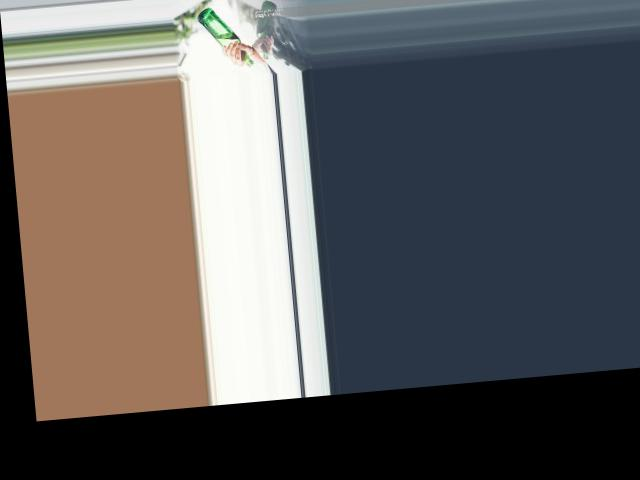beer: (197, 3, 255, 70)
